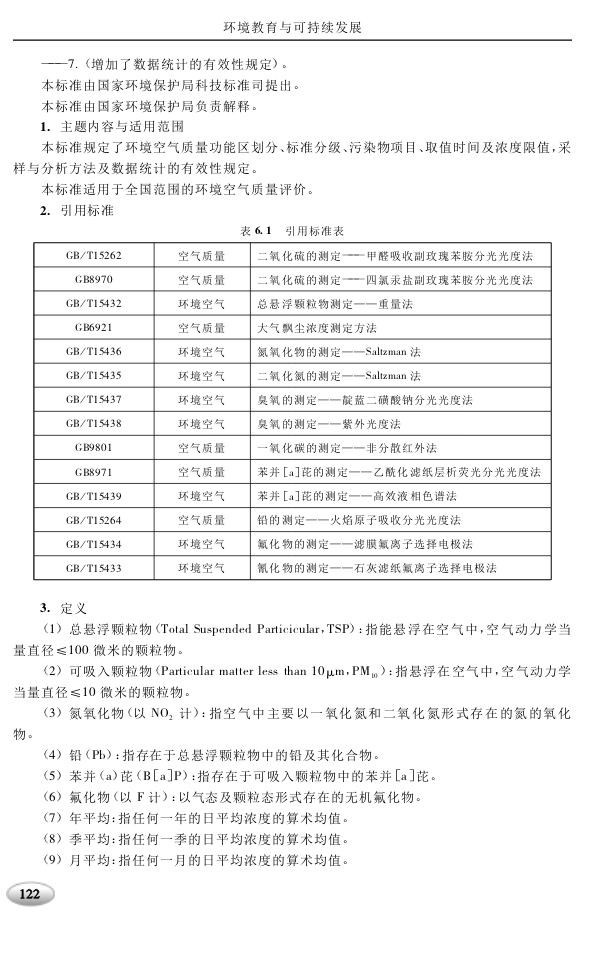table: (33, 242, 552, 581)
